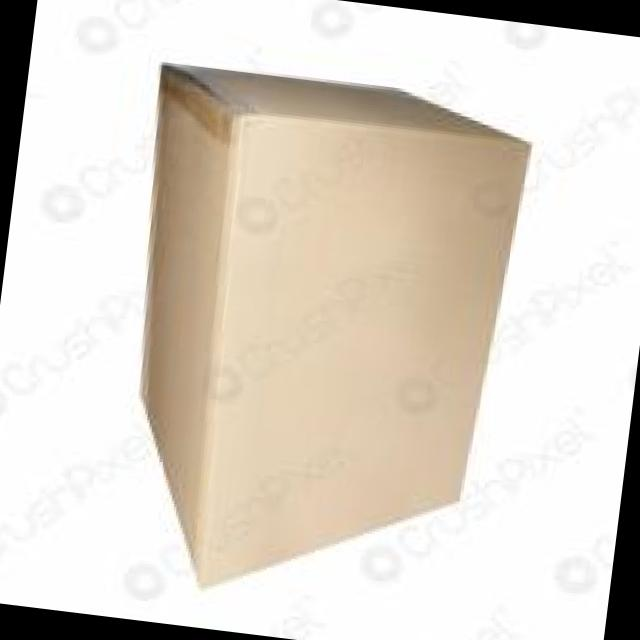box: (139, 61, 532, 592)
